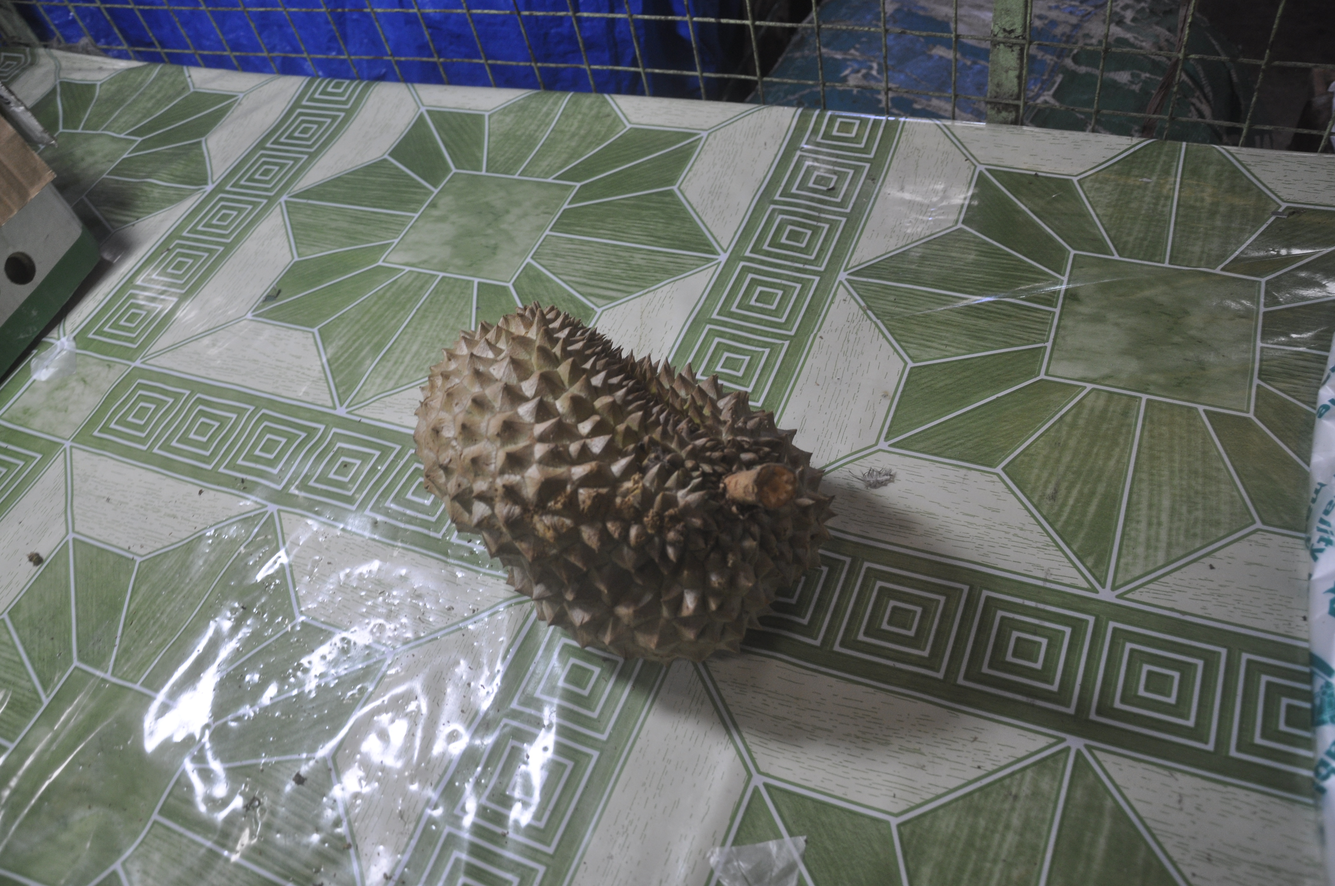mature: (378, 254, 867, 695)
